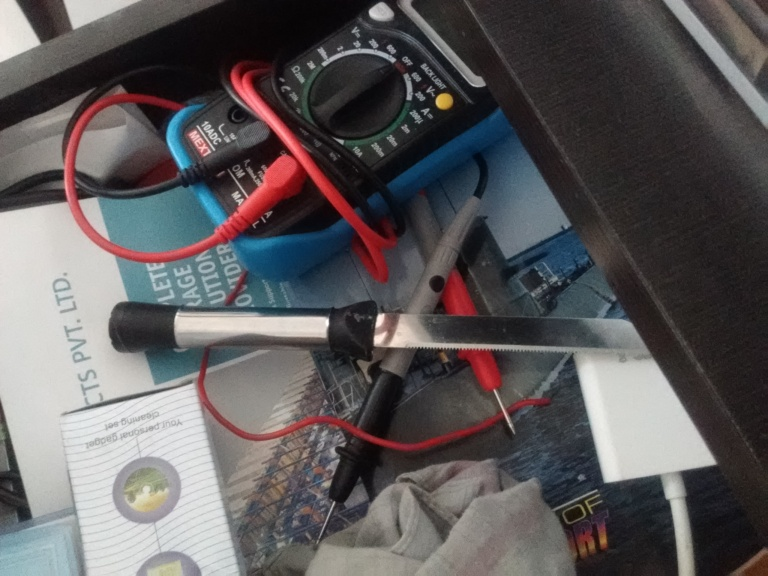knife: (107, 294, 625, 363)
